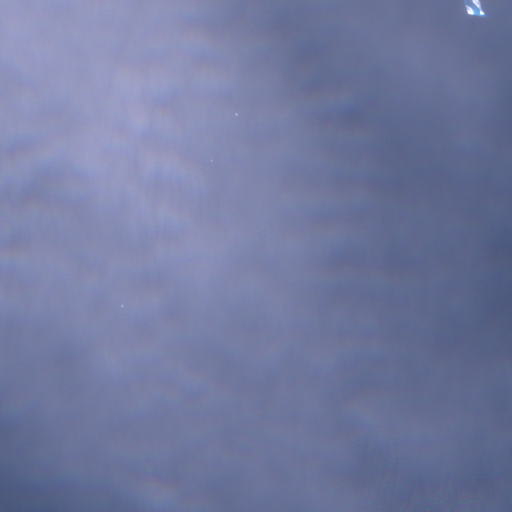Iceberg: (464, 0, 484, 16), (235, 113, 237, 115), (210, 159, 212, 160), (121, 305, 123, 306)
